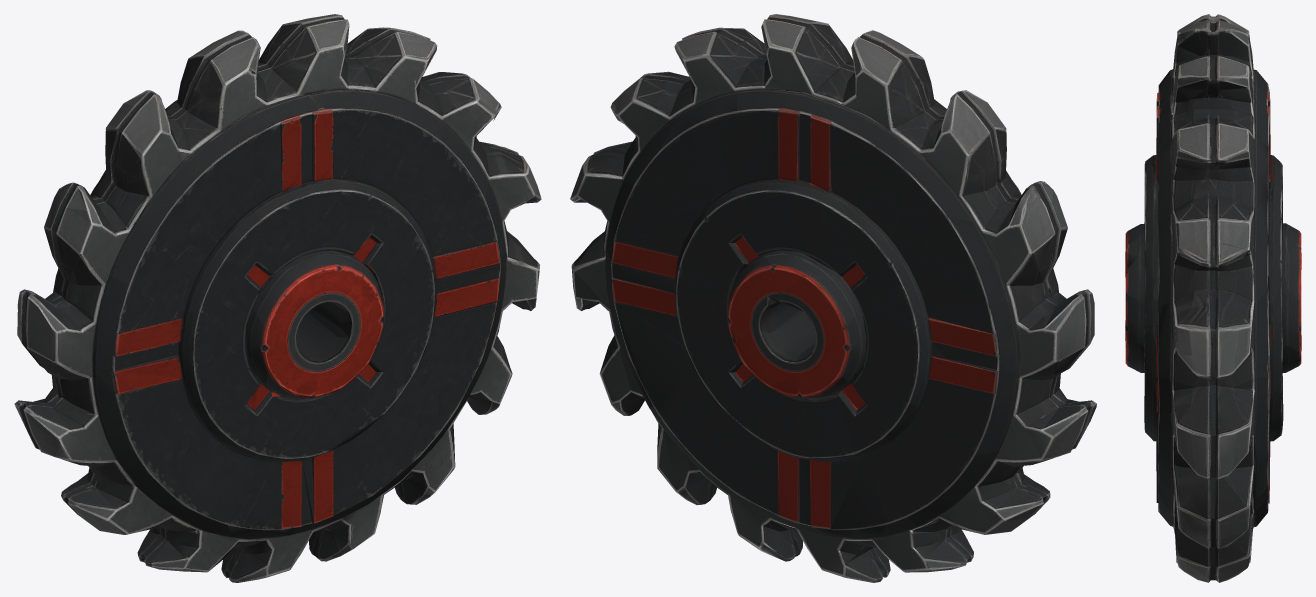
Rendered from saw.glb.
3 renders of one model, left to right at view 1: azimuth 30°, elevation 25°; view 2: azimuth 150°, elevation 25°; view 3: azimuth 270°, elevation 25°, orthographic. The views are drawn at different scales.
Parts seen in each view (by area): view 1: output_unwrapped; view 2: output_unwrapped; view 3: output_unwrapped.
Boxes of the visible parts, x1=… form: output_unwrapped: x1=14, y1=14, x2=541, y2=582; output_unwrapped: x1=570, y1=14, x2=1096, y2=582; output_unwrapped: x1=1125, y1=14, x2=1301, y2=582.
Bounding box in the file's own units: 1.9 × 1.9 × 0.5904.
Materials: 1 (1 with a texture image).
